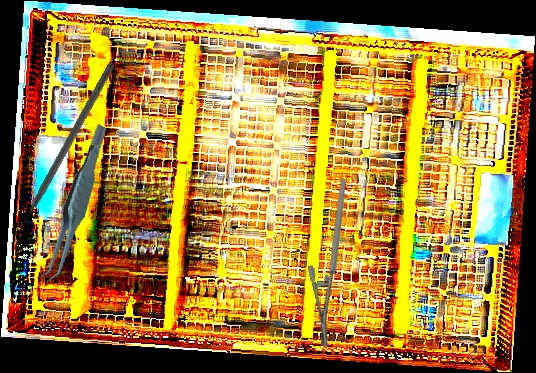Hook Surgical: (11, 60, 117, 240)
Needle Holder: (271, 177, 398, 349)
Tissue Forceps: (12, 123, 138, 286)
